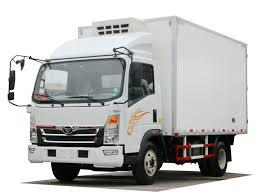truck: (4, 38, 179, 187)
